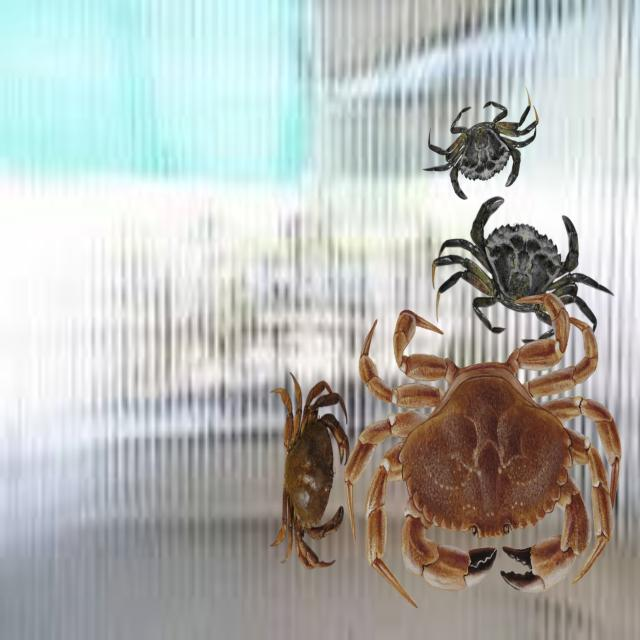European_Green_Crab: (426, 182, 622, 363), (415, 82, 548, 217)
